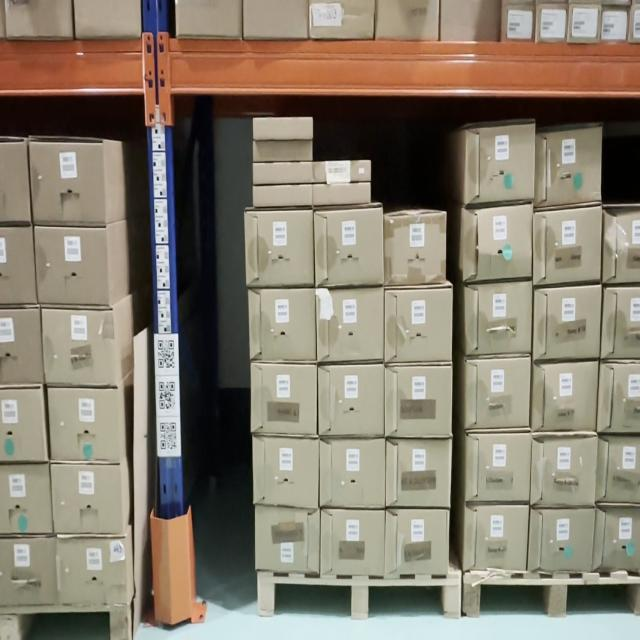box: (34, 140, 103, 224), (45, 308, 114, 385), (38, 227, 106, 302), (385, 286, 451, 363), (246, 212, 314, 286), (464, 207, 532, 280), (316, 210, 383, 284), (51, 389, 119, 461), (535, 129, 601, 203), (318, 288, 384, 361), (535, 287, 600, 361), (54, 466, 120, 534), (57, 537, 125, 603), (534, 212, 600, 280), (319, 365, 383, 435), (467, 357, 530, 428), (251, 366, 316, 434), (468, 130, 533, 198), (385, 368, 451, 434), (531, 436, 595, 504), (320, 439, 385, 505), (251, 292, 314, 358), (467, 287, 530, 352), (256, 507, 319, 569), (387, 442, 449, 505), (534, 366, 596, 429), (0, 536, 56, 605), (385, 512, 449, 572), (468, 436, 528, 500), (466, 506, 526, 570), (255, 440, 318, 500), (322, 511, 383, 572), (386, 217, 444, 281), (531, 509, 591, 570), (0, 466, 49, 534), (1, 390, 45, 462), (0, 307, 40, 385), (604, 204, 640, 281), (596, 507, 638, 569), (599, 437, 639, 502), (602, 363, 640, 431), (0, 224, 31, 301), (606, 289, 640, 356), (0, 139, 26, 221), (313, 183, 370, 203), (254, 140, 312, 159), (255, 119, 312, 138), (254, 163, 312, 181), (313, 162, 370, 179), (254, 188, 311, 204)
